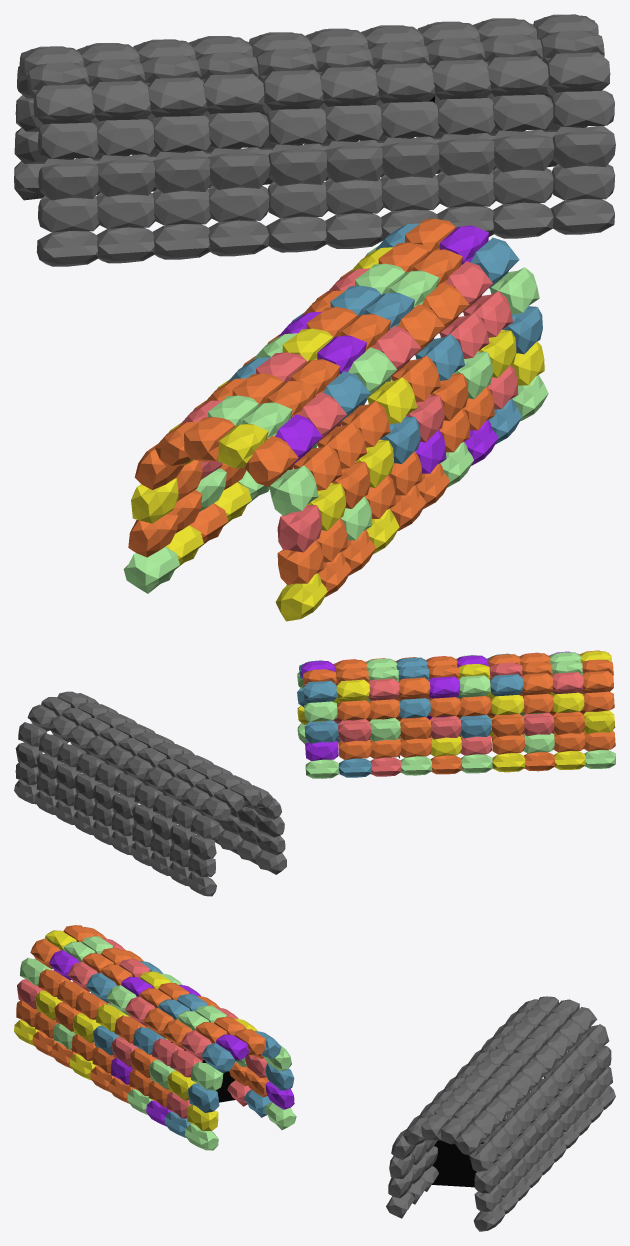
Rendered from Tunnels.fbx.
3 renders of one model, top to bottom at view 1: azimuth 30°, elevation 25°; view 2: azimuth 150°, elevation 25°; view 3: azimuth 270°, elevation 25°, orthographic. The views are drawn at different scales.
Parts seen in each view (by area): view 1: Tunnels; view 2: Tunnels; view 3: Tunnels.
Part boxes in pixels (x1,y1,x2,y2): Tunnels: [14, 14, 615, 621]; Tunnels: [14, 650, 615, 896]; Tunnels: [14, 925, 615, 1231].
Bounding box in the file's own units: 1912 × 408 × 2178.
